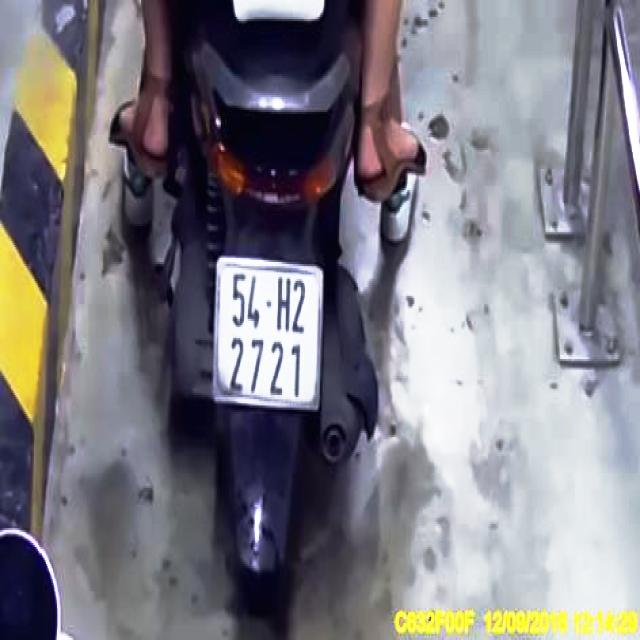license_plate: (214, 262, 323, 407)
